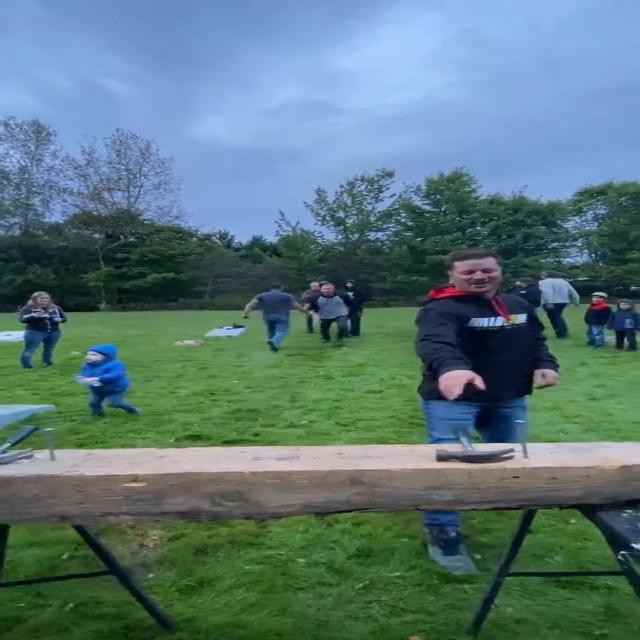hammer: (434, 425, 518, 465), (0, 424, 45, 466)
